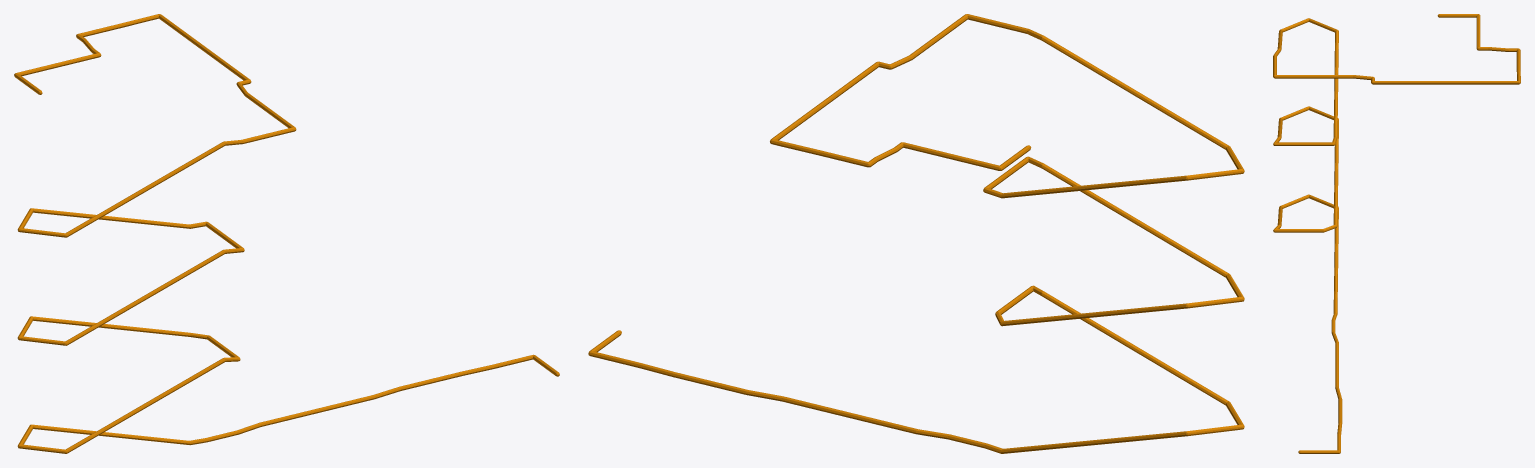
3 views of the same model, side by side, from view 1: azimuth 30°, elevation 25°; view 2: azimuth 150°, elevation 25°; view 3: azimuth 270°, elevation 25° (orthographic). The views are drawn at different scales.
Size of the model in its own units: 2595 by 1520 by 1274.
